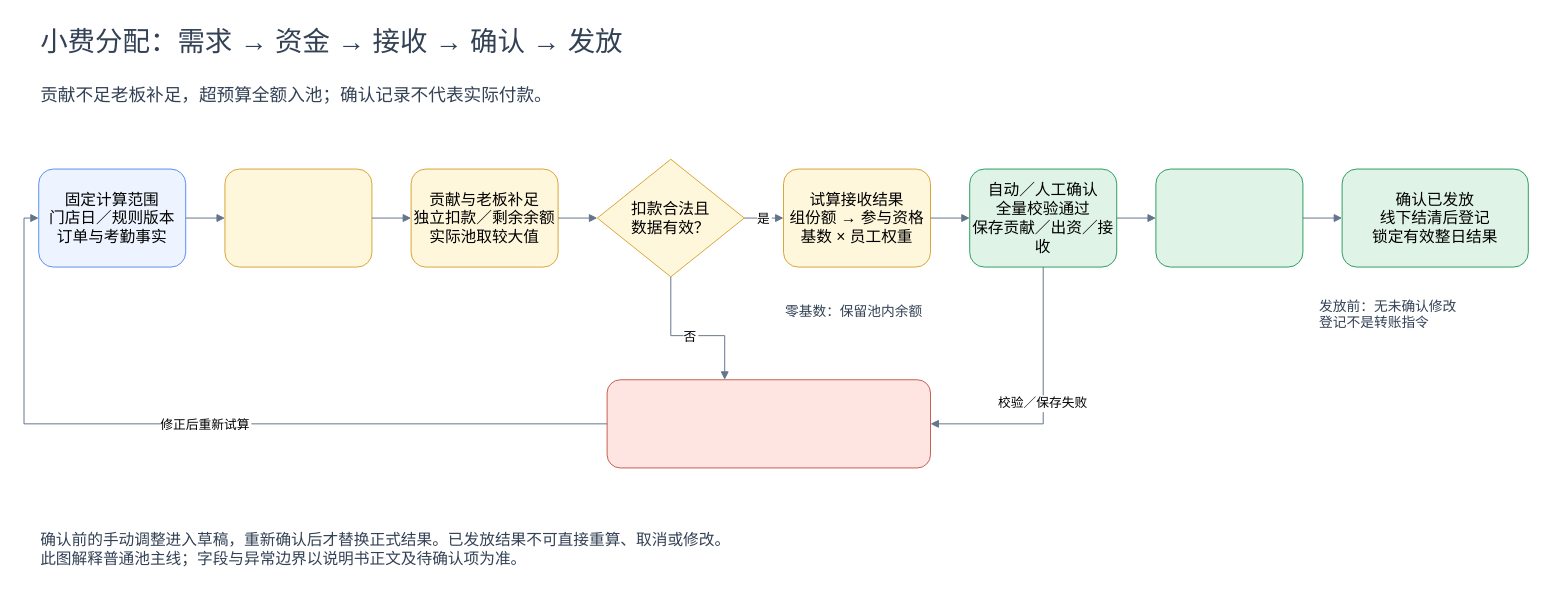
Image size: 1565x597. Some labels were removed from this diagram. The shapes that lost their labels are listed below. From the top down, each one's box as (x1, y1, x2, y2) in pixels, then its label:
(224, 168, 372, 267): 计算动态需求 筛选基数 × 比例 得到应入池金额 T
(1155, 168, 1303, 267): 已分配 有效确认快照 各页读取正式结果
(606, 379, 931, 468): 阻止本次确认 其他校验失败；保留原有效结果 提示具体规则与原因，修正后重算
